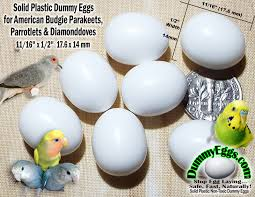budgie: (214, 98, 255, 147)
